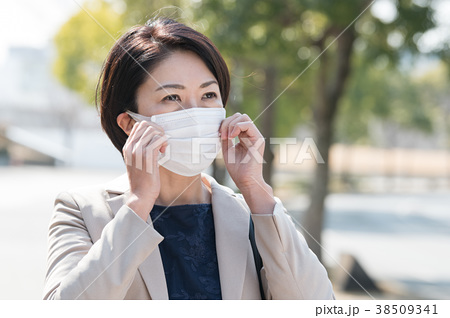mask: (142, 102, 222, 182)
